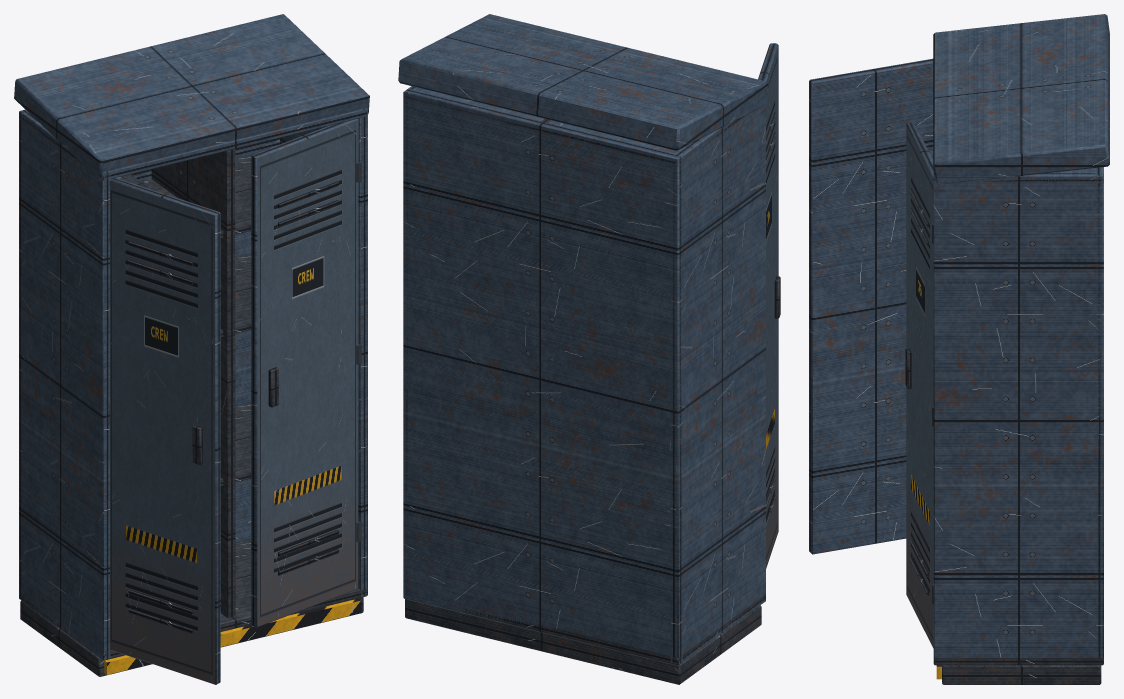
The model's file is steel_crew_locker_open.glb.
The picture shows the model from 3 angles, left to right: view 1: azimuth 30°, elevation 25°; view 2: azimuth 150°, elevation 25°; view 3: azimuth 270°, elevation 25°; orthographic projection. The views are drawn at different scales.
Parts seen in each view (by area): view 1: locker_abierto; view 2: locker_abierto; view 3: locker_abierto.
Boxes of the visible parts, box(x1,y1,x2,y2) form: locker_abierto: box(14, 14, 369, 684); locker_abierto: box(398, 14, 780, 684); locker_abierto: box(809, 14, 1109, 684).
Bounding box in the file's own units: 1.14 × 2.18 × 1.1.
Materials: 5 (5 with a texture image).
